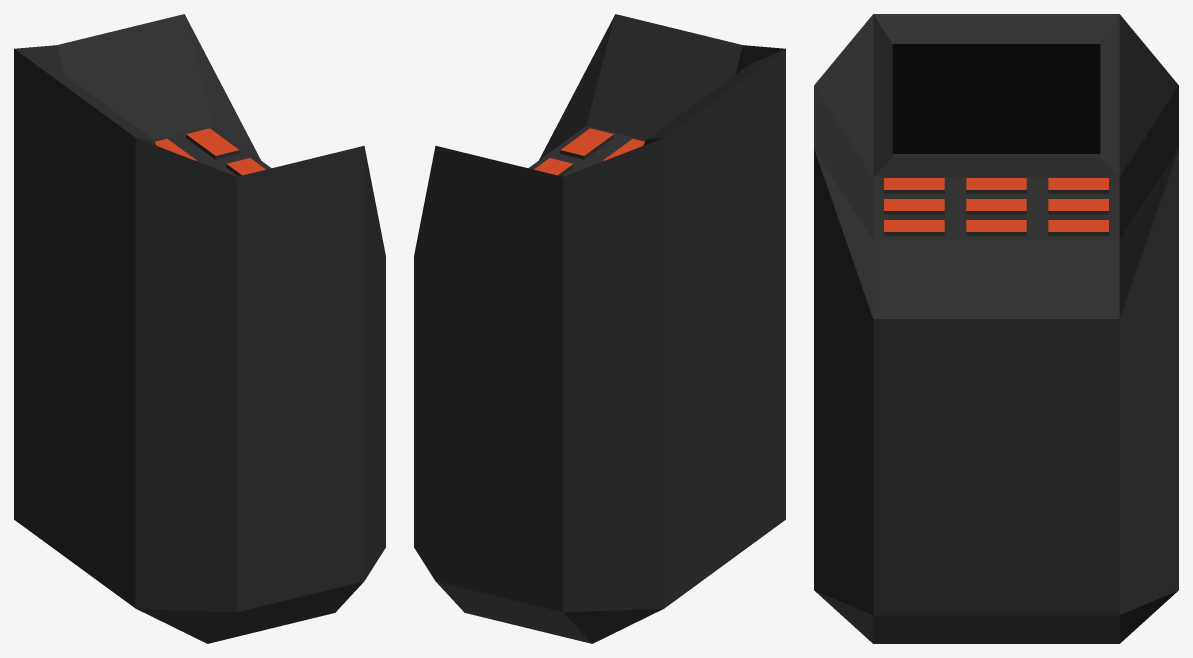
The model's file is device3.fbx.
3 views of the same model, side by side, from view 1: azimuth 30°, elevation 25°; view 2: azimuth 150°, elevation 25°; view 3: azimuth 270°, elevation 25° (orthographic).
Parts seen in each view (by area): view 1: device3; view 2: device3; view 3: device3.
Part boxes in pixels (bbox=[...]): device3: bbox=[14, 14, 385, 643]; device3: bbox=[414, 14, 785, 643]; device3: bbox=[814, 14, 1178, 643].
Size of the model in its own units: 98.78 by 198 by 123.
